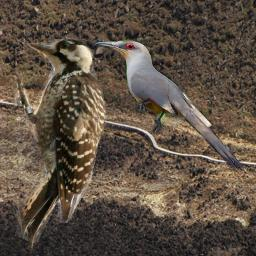Cuckoo: (94, 39, 248, 175)
Woodpecker: (9, 33, 107, 252)
